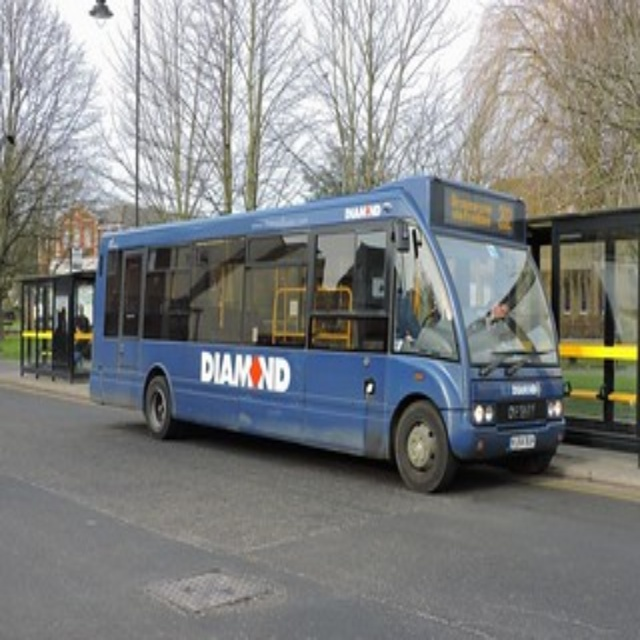Bus: (86, 173, 564, 496)
